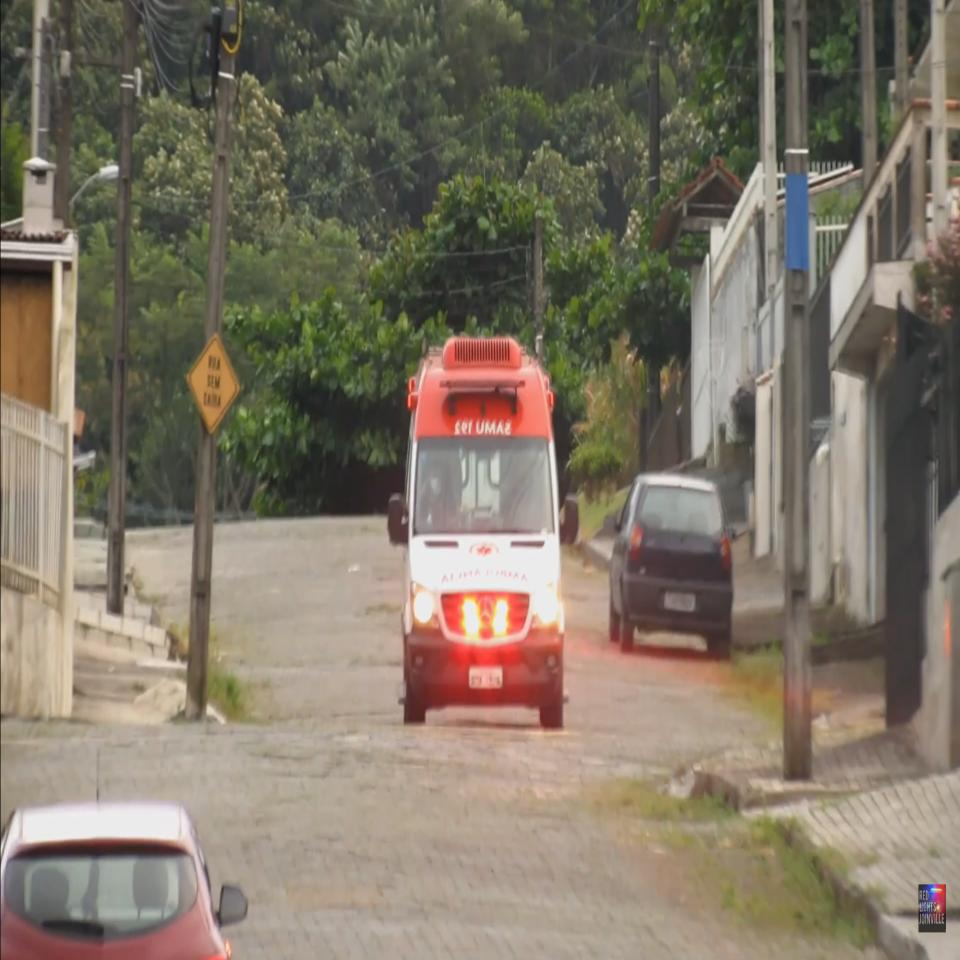bombeiro: (387, 329, 578, 730)
